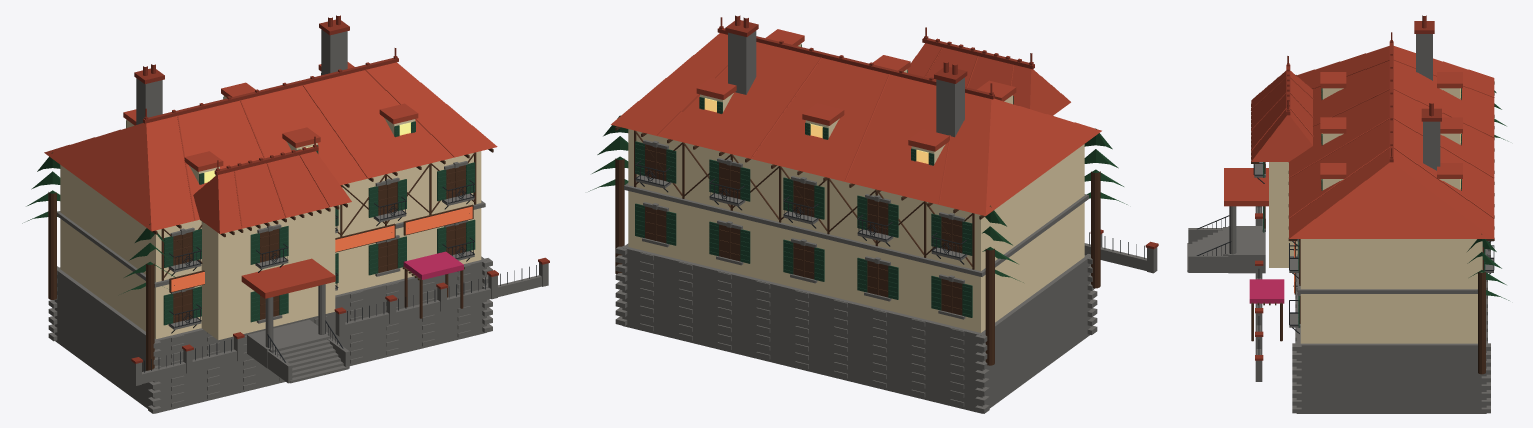
Rendered from fv_hb_05_truong_cong_dinh_lower_normandy_row.glb.
The picture shows the model from 3 angles, left to right: view 1: azimuth 30°, elevation 25°; view 2: azimuth 150°, elevation 25°; view 3: azimuth 270°, elevation 25°; orthographic projection. The views are drawn at different scales.
Parts seen in each view (by area): view 1: marseille_corrugated_roof_tiles, granite_foundation_and_stairs, stucco_facade_and_dormers, colombage_timber_and_eaves, pine_green_louvered_shutters, ridge_cresting_and_chimneys, wrought_iron_balconies_3d, heritage_and_hoa_binh_signboards, pine_trees_and_garden_hedges, bougainvillea_pergola_clusters; view 2: granite_foundation_and_stairs, marseille_corrugated_roof_tiles, stucco_facade_and_dormers, colombage_timber_and_eaves, pine_green_louvered_shutters, ridge_cresting_and_chimneys, pine_trees_and_garden_hedges, wrought_iron_balconies_3d; view 3: marseille_corrugated_roof_tiles, granite_foundation_and_stairs, stucco_facade_and_dormers, ridge_cresting_and_chimneys, colombage_timber_and_eaves, bougainvillea_pergola_clusters, wrought_iron_balconies_3d, pine_trees_and_garden_hedges, pine_green_louvered_shutters.
Boxes of the visible parts, box(x1,y1,x2,y2) form: marseille_corrugated_roof_tiles: box(44, 62, 497, 298); granite_foundation_and_stairs: box(48, 29, 548, 413); stucco_facade_and_dormers: box(60, 96, 481, 340); colombage_timber_and_eaves: box(48, 148, 493, 370); pine_green_louvered_shutters: box(126, 73, 475, 325); ridge_cresting_and_chimneys: box(131, 15, 549, 363); wrought_iron_balconies_3d: box(144, 180, 536, 372); heritage_and_hoa_binh_signboards: box(171, 206, 472, 291); pine_trees_and_garden_hedges: box(22, 152, 180, 294); bougainvillea_pergola_clusters: box(403, 251, 463, 279); granite_foundation_and_stairs: box(615, 31, 1157, 413); marseille_corrugated_roof_tiles: box(611, 29, 1101, 216); stucco_facade_and_dormers: box(628, 44, 1084, 332); colombage_timber_and_eaves: box(615, 126, 1100, 365); pine_green_louvered_shutters: box(635, 44, 1013, 317); ridge_cresting_and_chimneys: box(717, 15, 1158, 249); pine_trees_and_garden_hedges: box(588, 115, 1127, 282); wrought_iron_balconies_3d: box(635, 160, 1144, 264); marseille_corrugated_roof_tiles: box(1224, 46, 1494, 238); granite_foundation_and_stairs: box(1187, 34, 1493, 413); stucco_facade_and_dormers: box(1269, 88, 1482, 343); ridge_cresting_and_chimneys: box(1255, 15, 1441, 360); colombage_timber_and_eaves: box(1251, 81, 1494, 374); bougainvillea_pergola_clusters: box(1249, 279, 1284, 303); wrought_iron_balconies_3d: box(1196, 162, 1494, 354); pine_trees_and_garden_hedges: box(1296, 75, 1509, 300); pine_green_louvered_shutters: box(1263, 88, 1485, 327).
Bounding box in the file's own units: 28.52 × 18.73 × 20.73.
